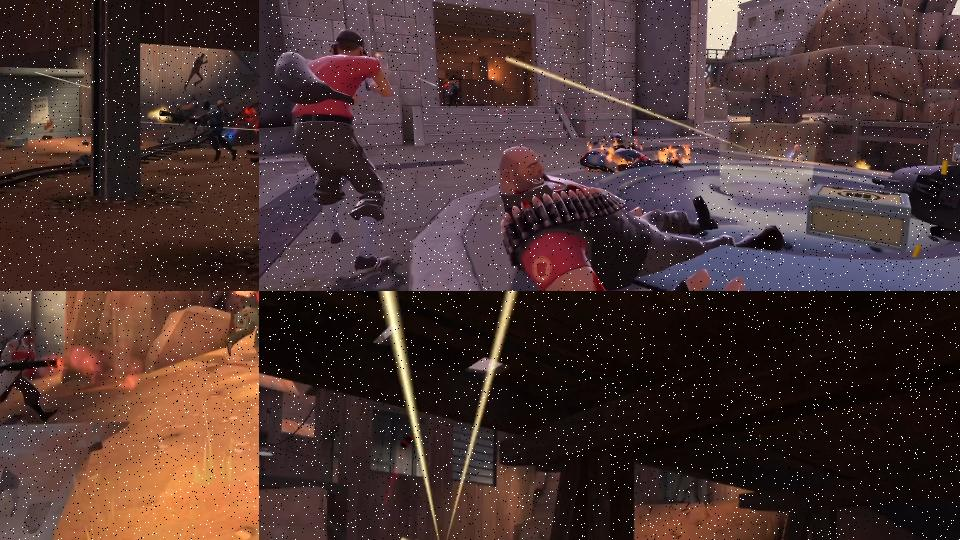Enemy: (499, 145, 790, 291), (273, 30, 394, 269), (0, 328, 60, 422), (581, 141, 685, 171), (192, 96, 238, 162), (224, 291, 259, 358), (158, 93, 199, 125), (182, 51, 209, 92)
